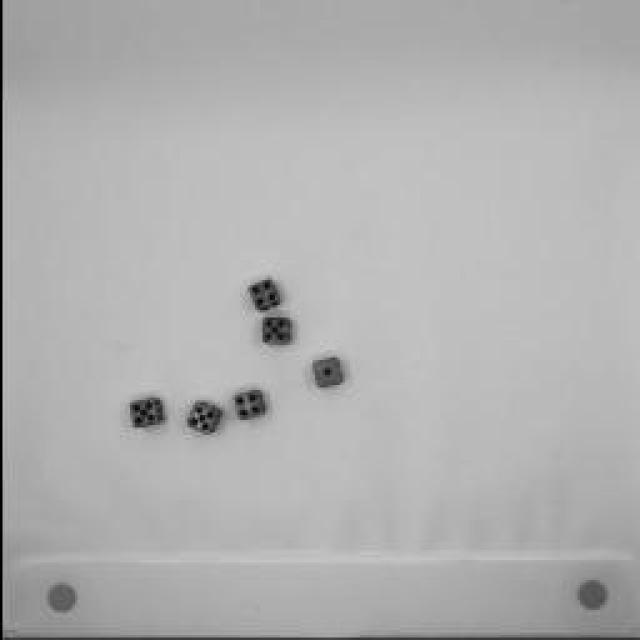dice_1: (302, 352, 348, 392)
dice_4: (235, 272, 283, 316), (226, 385, 269, 427)
dice_5: (123, 392, 165, 432), (182, 400, 222, 440), (254, 312, 294, 350)
